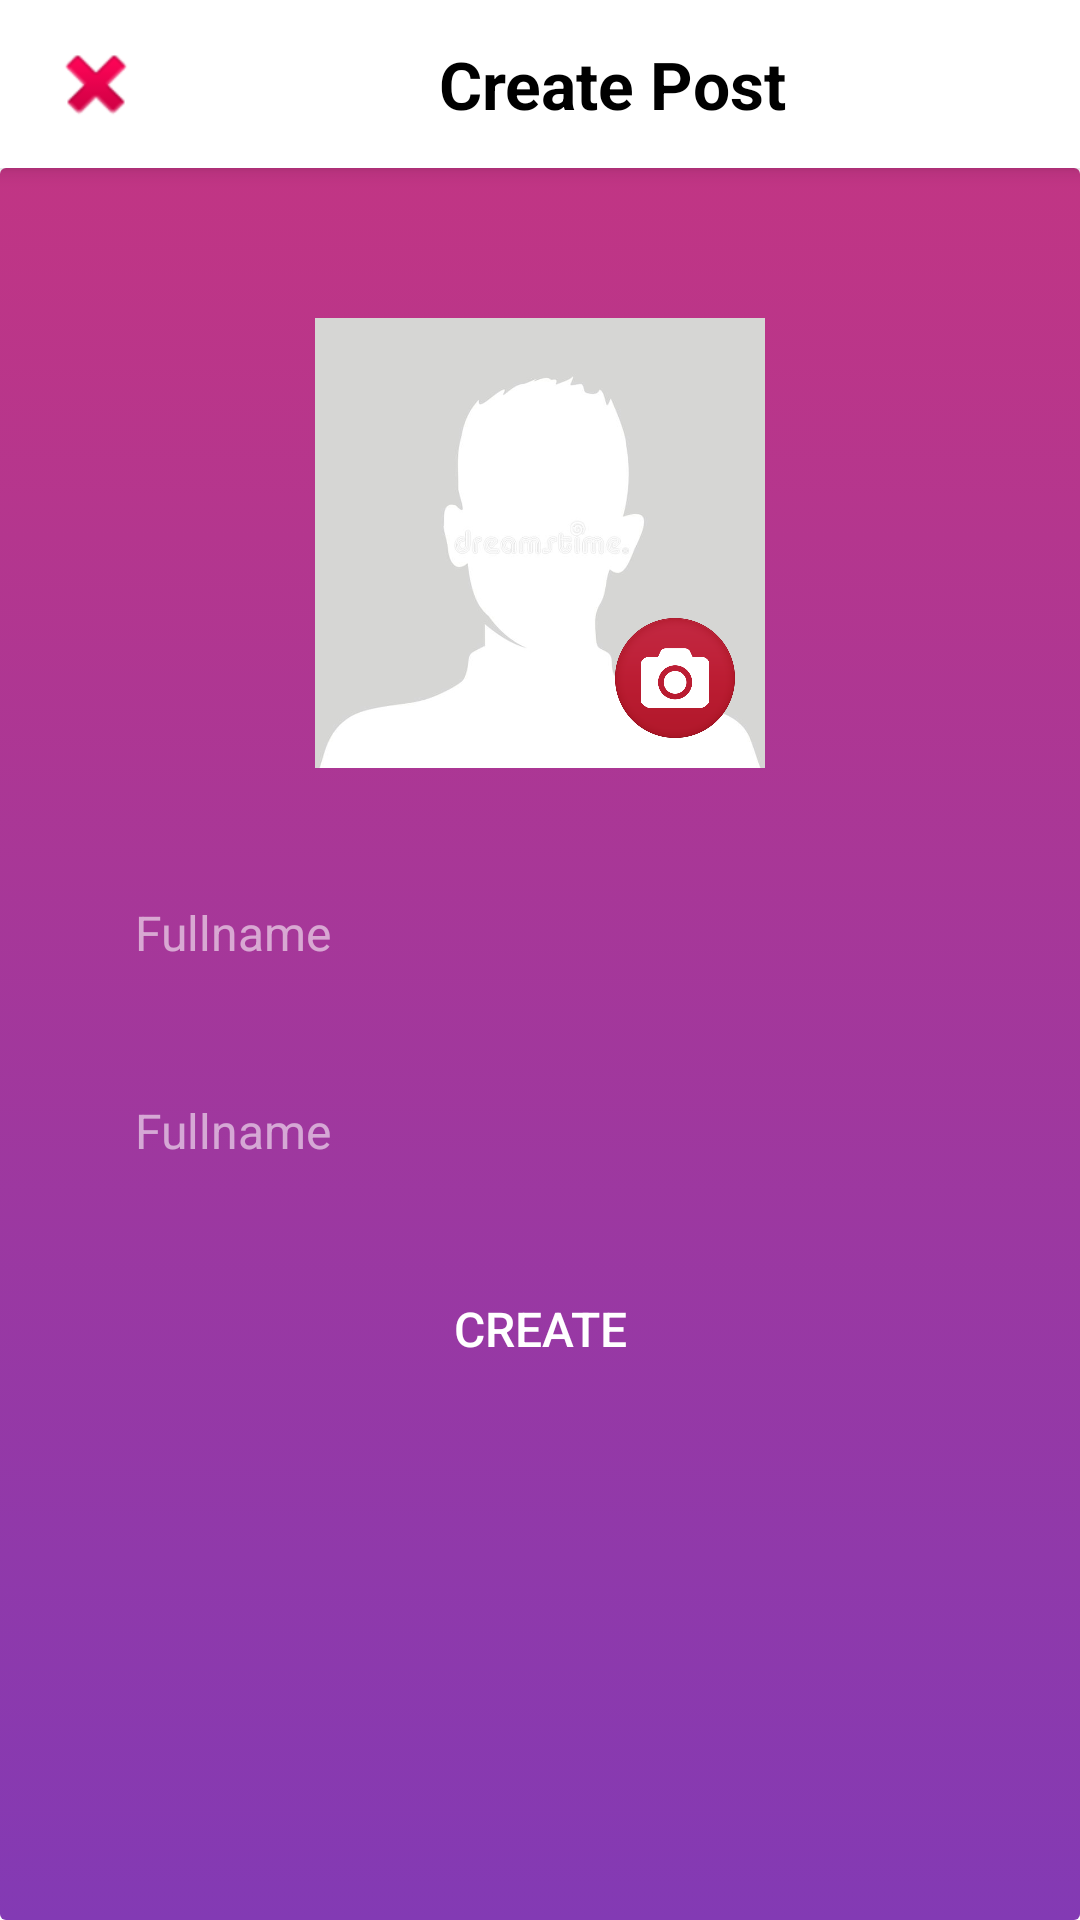

Named icons in this screenshot (1080px x 1920px) and their centers, (x,y):
delete: (96,84)
